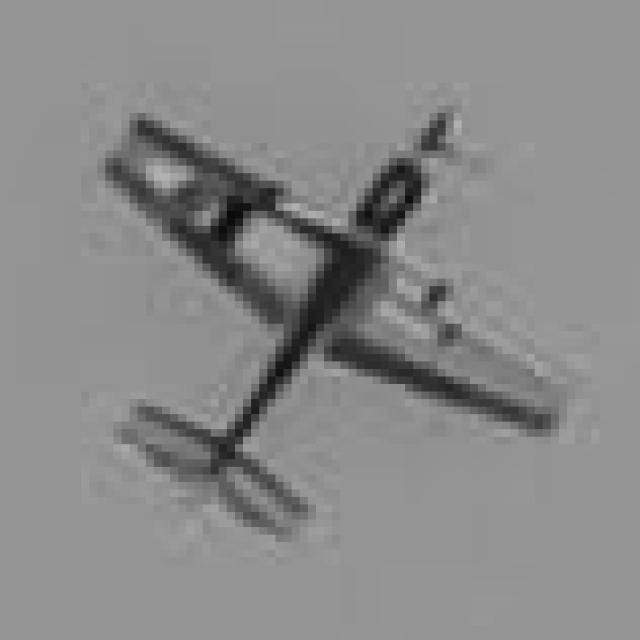iha: (41, 49, 559, 527)
